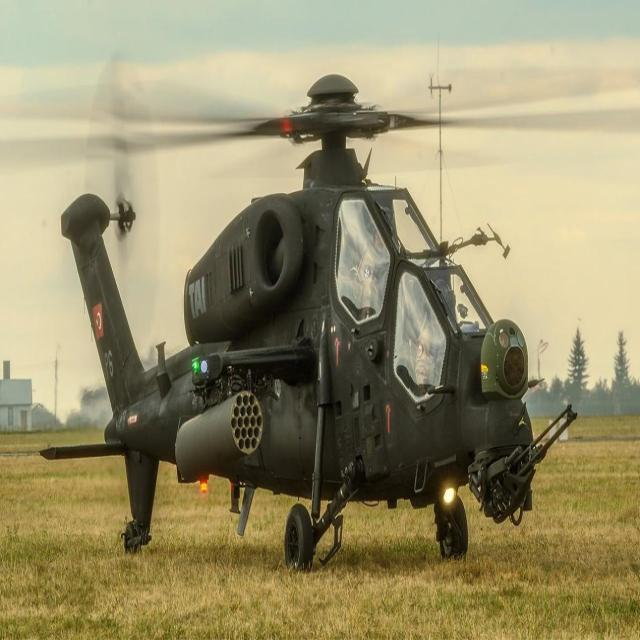MIL_HELO: (3, 36, 578, 581)
